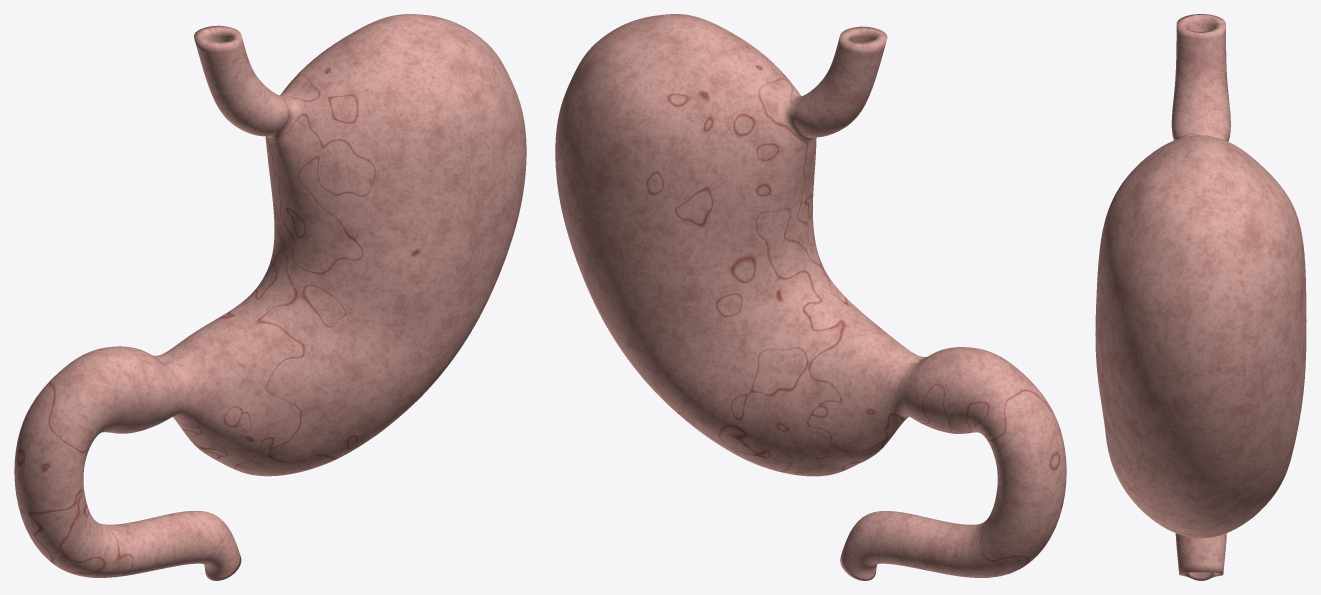
The model's file is stomach.glb.
The picture shows the model from 3 angles, left to right: view 1: azimuth 30°, elevation 25°; view 2: azimuth 150°, elevation 25°; view 3: azimuth 270°, elevation 25°; orthographic projection. The views are drawn at different scales.
Visible parts, largest first — view 1: Stomach_0; view 2: Stomach_0; view 3: Stomach_0.
Boxes of the visible parts, x1,y1,x2,y2 form: Stomach_0: (14,14,526,580); Stomach_0: (555,14,1066,580); Stomach_0: (1095,14,1306,580).
Size of the model in its own units: 4.41 by 4.6 by 1.57.
1 material, 1 textured.
